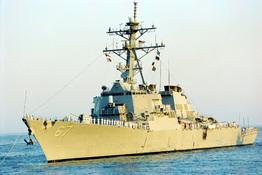warship: (21, 9, 260, 162)
